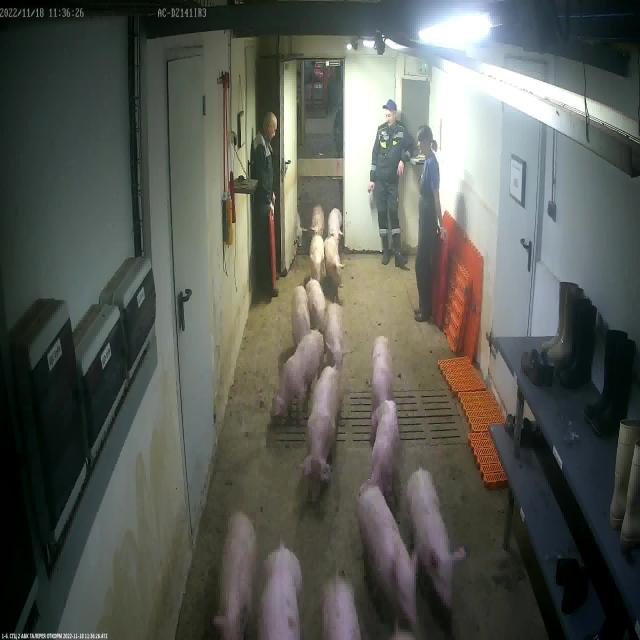pig: (356, 477, 418, 639), (408, 469, 464, 613), (300, 366, 344, 501), (216, 514, 259, 640), (273, 330, 329, 420), (258, 544, 304, 640), (366, 400, 402, 511), (322, 574, 360, 640), (328, 301, 348, 371), (374, 336, 393, 409), (305, 279, 328, 334), (324, 237, 346, 288), (296, 287, 309, 343), (311, 235, 324, 283), (329, 208, 342, 248), (312, 208, 324, 236)
